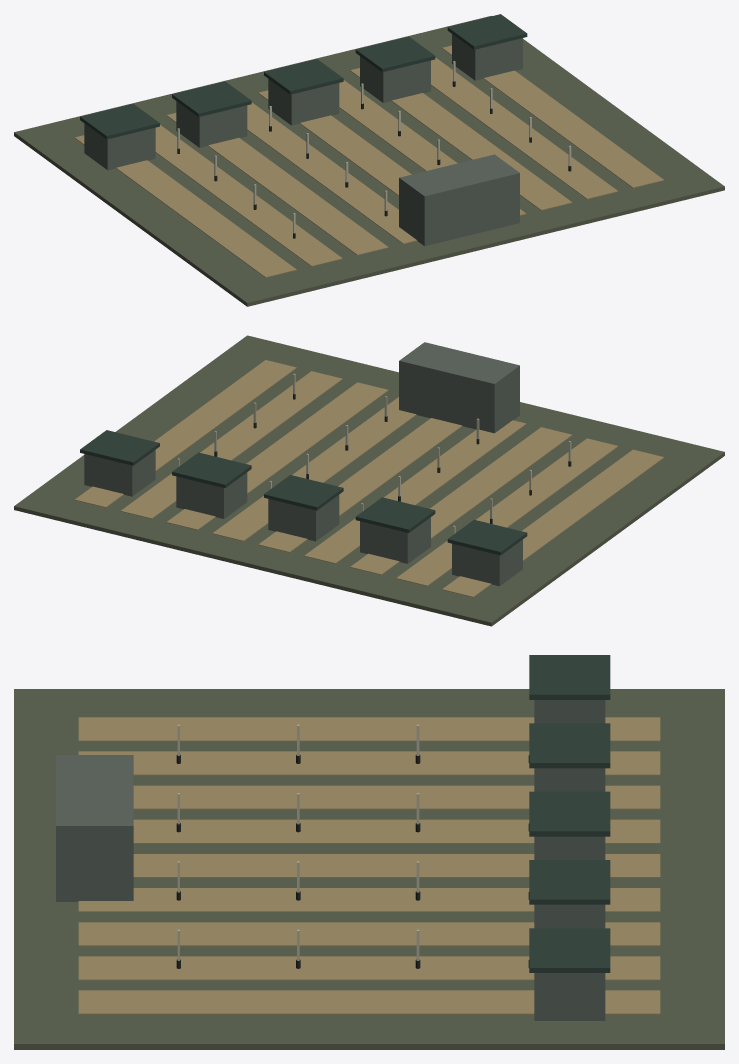
File: firing_range_optimized.glb
3 views of the same model, one above another, from view 1: azimuth 30°, elevation 25°; view 2: azimuth 150°, elevation 25°; view 3: azimuth 270°, elevation 25° (orthographic). The views are drawn at different scales.
Parts seen in each view (by area): view 1: ground, firing_lane (×9), bunker (×5), bunker_roof (×5), range_control; view 2: ground, firing_lane (×9), bunker (×5), bunker_roof (×5), range_control; view 3: ground, firing_lane (×9), bunker_roof (×5), range_control, bunker (×5).
Part boxes in pixels (x1,y1,x2,y2): ground: (14,16,724,306); firing_lane (×9): (74,45,664,277); bunker (×5): (84,34,522,170); bunker_roof (×5): (80,14,527,139); range_control: (399,154,519,246); ground: (14,335,724,626); firing_lane (×9): (75,360,664,597); bunker (×5): (84,450,522,586); bunker_roof (×5): (80,430,527,555); range_control: (399,342,519,433); ground: (14,689,724,1049); firing_lane (×9): (78,717,660,1014); bunker_roof (×5): (529,655,610,972); range_control: (56,755,133,901); bunker (×5): (534,700,605,1020).
Size of the model in its own units: 2600 by 330 by 2200.
